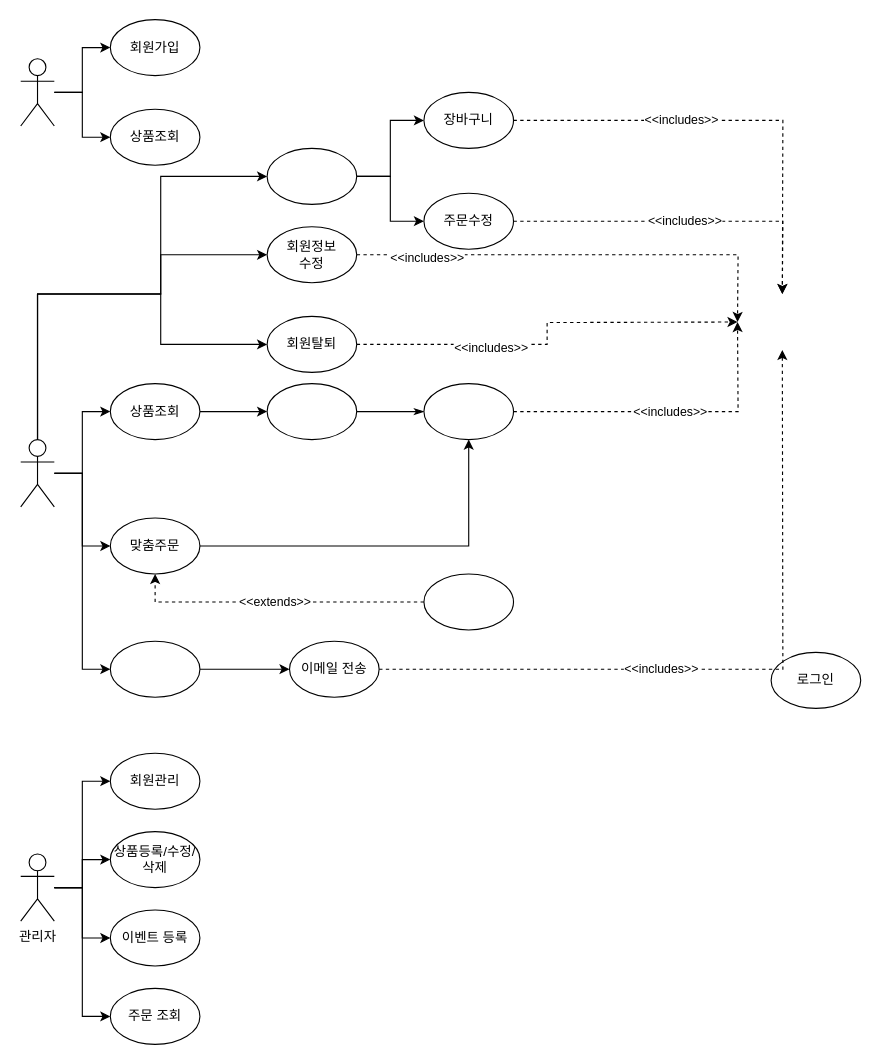
Image size: 880x1064. Some labels were removed from this diagram. The centre of each missing label's shape, as x and y in pixels:
마이페이지: [311,175]
문의하기: [154,668]
비회원: [37,92]
상세보기: [311,411]
상품주문: [468,411]
이미지추가: [468,601]
회원: [37,472]
